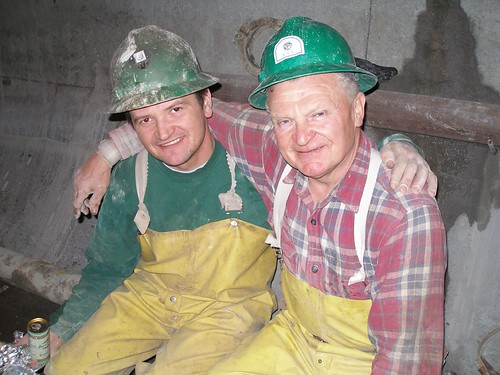person hardhat: (59, 26, 278, 375), (236, 15, 447, 375)
